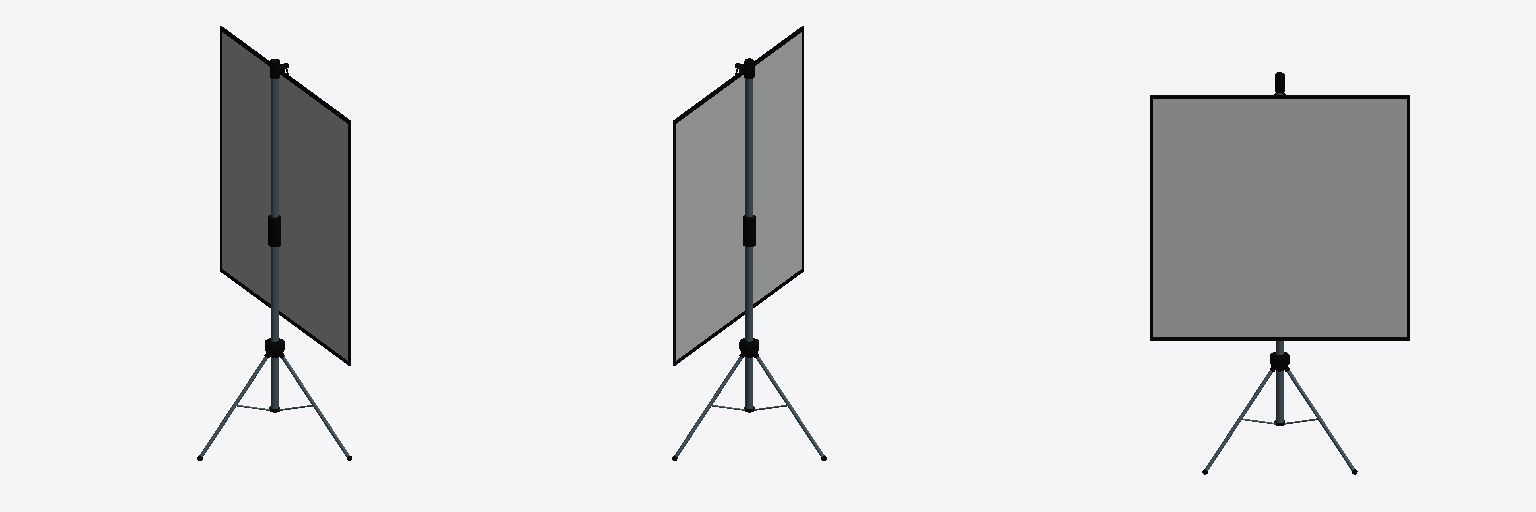
File: pizarron2.obj
3 views of the same model, side by side, from view 1: azimuth 30°, elevation 25°; view 2: azimuth 150°, elevation 25°; view 3: azimuth 270°, elevation 25° (orthographic).
Visible parts, largest first — view 1: Cylinder_016; view 2: Cylinder_016; view 3: Cylinder_016.
Part boxes in pixels (x1,y1,x2,y2): Cylinder_016: (197,26,351,460); Cylinder_016: (672,26,826,460); Cylinder_016: (1150,72,1409,474).
Bounding box in the file's own units: 22.21 × 69.3 × 42.68.